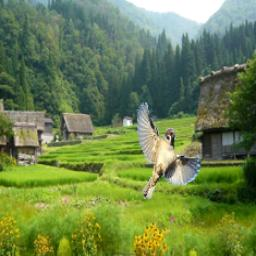Sparrow: (138, 101, 203, 200)
